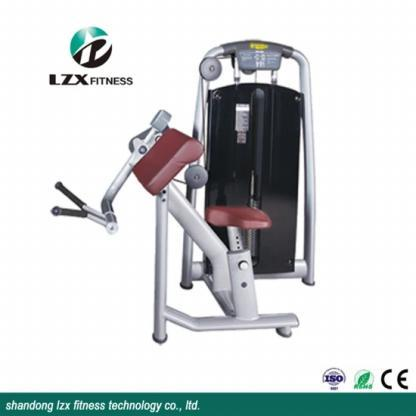arm curl machine: (52, 91, 317, 345)
